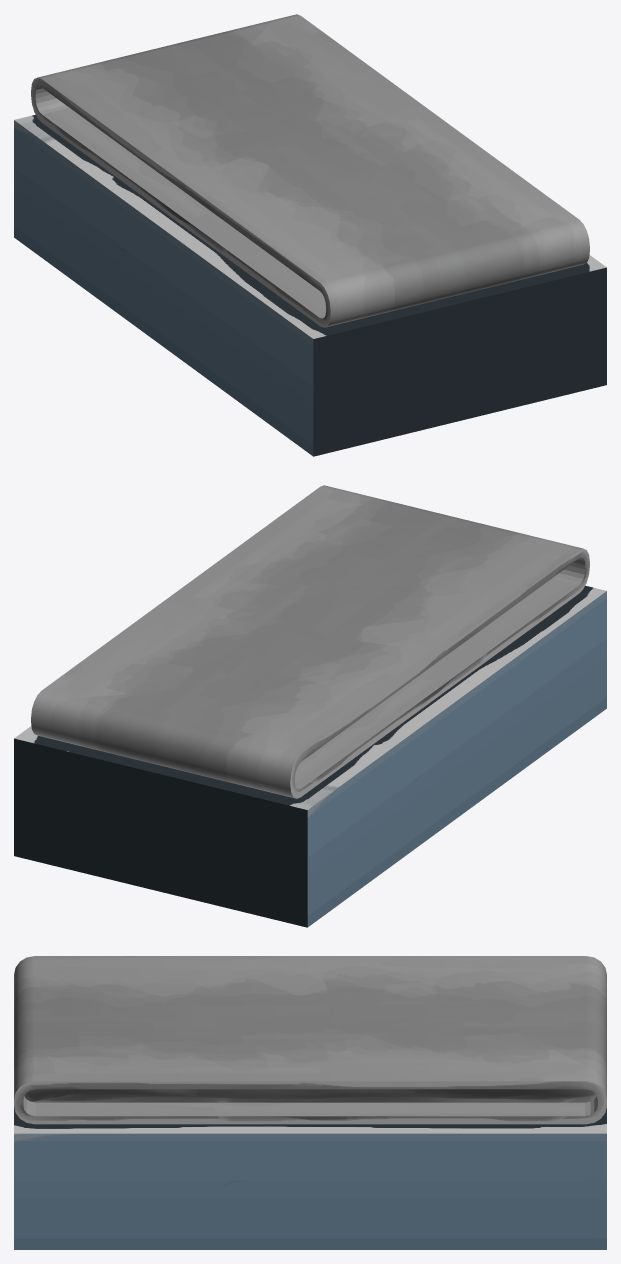
File: conveyor_belt_straight.fbx
3 renders of one model, top to bottom at view 1: azimuth 30°, elevation 25°; view 2: azimuth 150°, elevation 25°; view 3: azimuth 270°, elevation 25°, orthographic.
Parts seen in each view (by area): view 1: ConveyorBelt_Straight; view 2: ConveyorBelt_Straight; view 3: ConveyorBelt_Straight.
Boxes of the visible parts, x1,y1,x2,y2 form: ConveyorBelt_Straight: (14, 14, 606, 456); ConveyorBelt_Straight: (14, 485, 606, 927); ConveyorBelt_Straight: (14, 956, 606, 1249).
Size of the model in its own units: 340 by 179 by 600.
